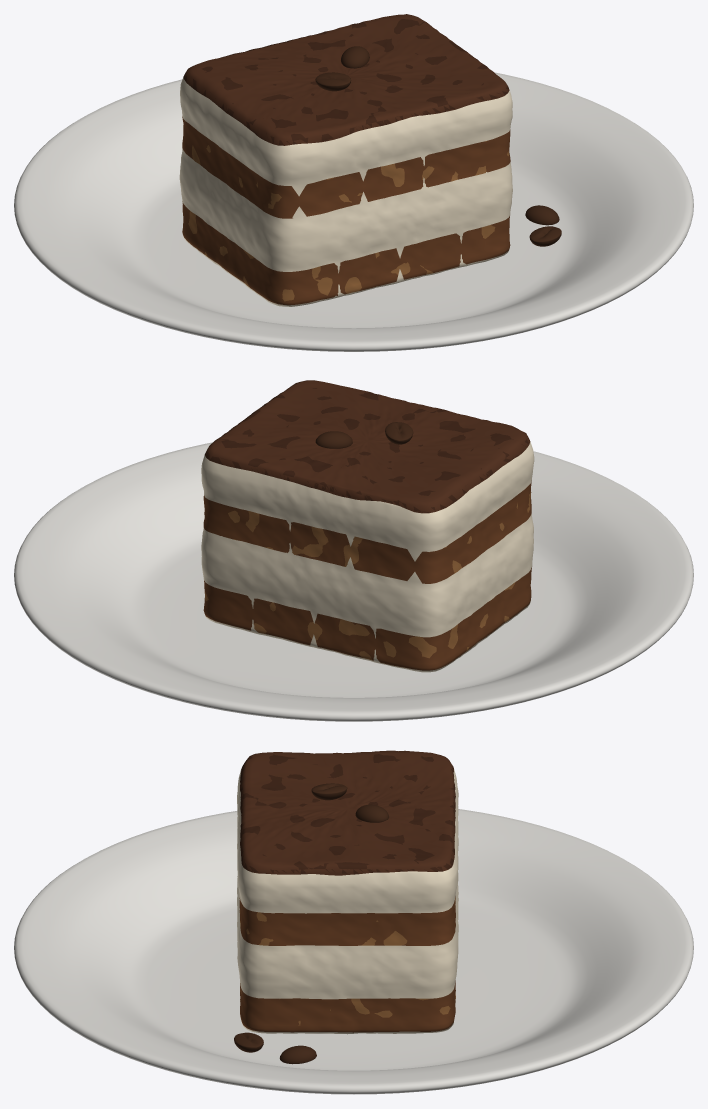
File: tiramisu.glb
3 views of the same model, one above another, from view 1: azimuth 30°, elevation 25°; view 2: azimuth 150°, elevation 25°; view 3: azimuth 270°, elevation 25° (orthographic).
Parts seen in each view (by area): view 1: porcelaine_blanche, creme_mascarpone, cacao_poudre, biscuit_imbibe, cacao_poudre_fonce, biscuit_cuillere, grain_de_cafe; view 2: porcelaine_blanche, creme_mascarpone, cacao_poudre, biscuit_imbibe, cacao_poudre_fonce, biscuit_cuillere, grain_de_cafe; view 3: porcelaine_blanche, cacao_poudre, creme_mascarpone, biscuit_imbibe, cacao_poudre_fonce, grain_de_cafe, biscuit_cuillere.
Boxes of the visible parts, <box> form: porcelaine_blanche: <box>14,72,693,351</box>; creme_mascarpone: <box>179,77,512,306</box>; cacao_poudre: <box>183,14,509,145</box>; biscuit_imbibe: <box>182,116,510,305</box>; cacao_poudre_fonce: <box>185,19,509,145</box>; biscuit_cuillere: <box>182,121,508,301</box>; grain_de_cafe: <box>315,46,561,246</box>; porcelaine_blanche: <box>14,442,693,721</box>; creme_mascarpone: <box>201,442,534,672</box>; cacao_poudre: <box>205,380,530,513</box>; biscuit_imbibe: <box>203,481,531,670</box>; cacao_poudre_fonce: <box>205,388,528,513</box>; biscuit_cuillere: <box>204,491,531,660</box>; grain_de_cafe: <box>315,422,413,448</box>; porcelaine_blanche: <box>14,809,693,1094</box>; cacao_poudre: <box>240,750,455,875</box>; creme_mascarpone: <box>237,769,458,1034</box>; biscuit_imbibe: <box>239,896,455,1032</box>; cacao_poudre_fonce: <box>240,752,455,874</box>; grain_de_cafe: <box>234,783,388,1064</box>; biscuit_cuillere: <box>239,898,455,1025</box>.
Size of the model in its own units: 0.22 by 0.072 by 0.22.
